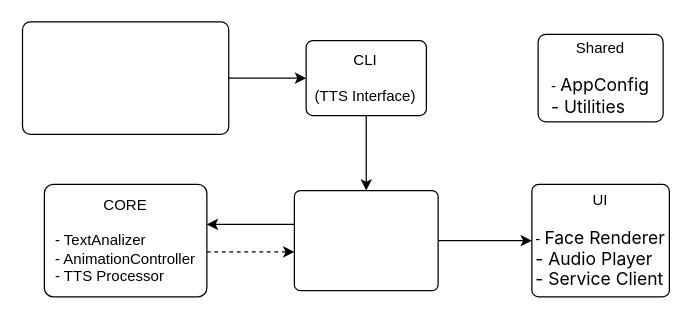
Some shapes in this 691 by 319 pixel diagram are drawn without their labels. The shapes that lost their labels are listed below. From the top down, each one's centre as x and y in pixels, then its label:
At [125,77]: "AI Interface (Llama) - LLM Management - STT recorder - P ersonas Management".
At [365,240]: "Service - IPC Server - Orchestration".
